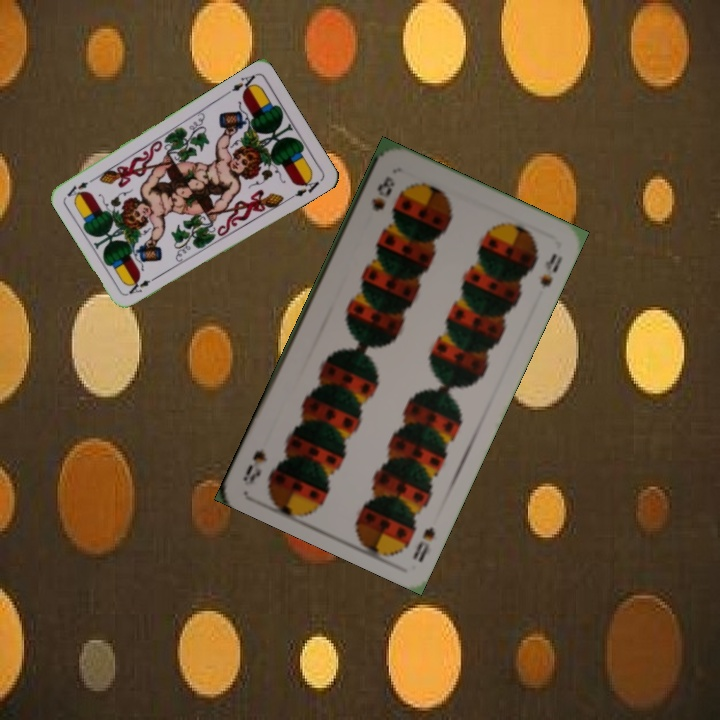EA: (222, 70, 259, 97), (125, 271, 162, 297)
S8: (367, 172, 398, 214), (408, 522, 438, 565)
